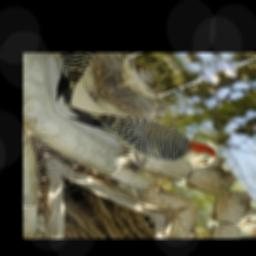Woodpecker: (61, 71, 228, 202)
